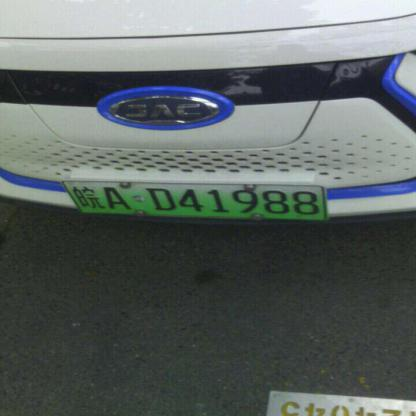lp: (61, 181, 326, 220)
